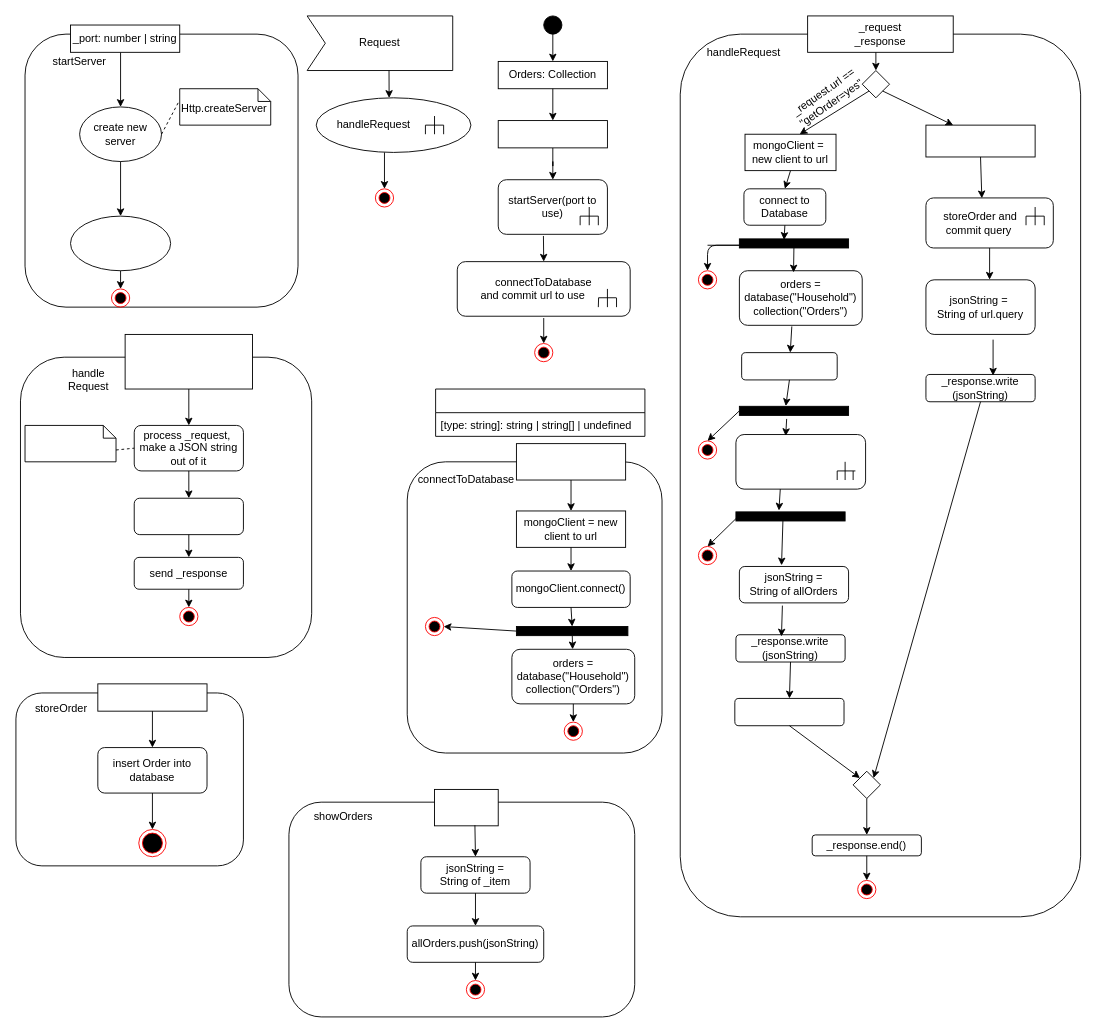
Some shapes in this 1097 by 1033 pixel diagram are drawn without their labels. Each missing label, with the box of its shape:
_item: (434, 789, 498, 826)
_order: (97, 683, 207, 711)
_request: Http.IncomingMessage _response: Http.SeverResponse: (124, 334, 253, 389)
_url_ string: (516, 443, 626, 480)
add request listener to button: (70, 215, 171, 271)
allOrders: string[] = []: (497, 120, 607, 148)
cursor = orders.find(): (741, 352, 837, 380)
cursor.forEach (allOrders): (735, 434, 866, 489)
empty allOrders: (734, 698, 844, 726)
fill response with JSON string: (133, 497, 243, 535)
Order: (435, 388, 645, 436)
pretty print JSON string: (24, 425, 116, 462)
query = parse_request: (925, 124, 1035, 157)
